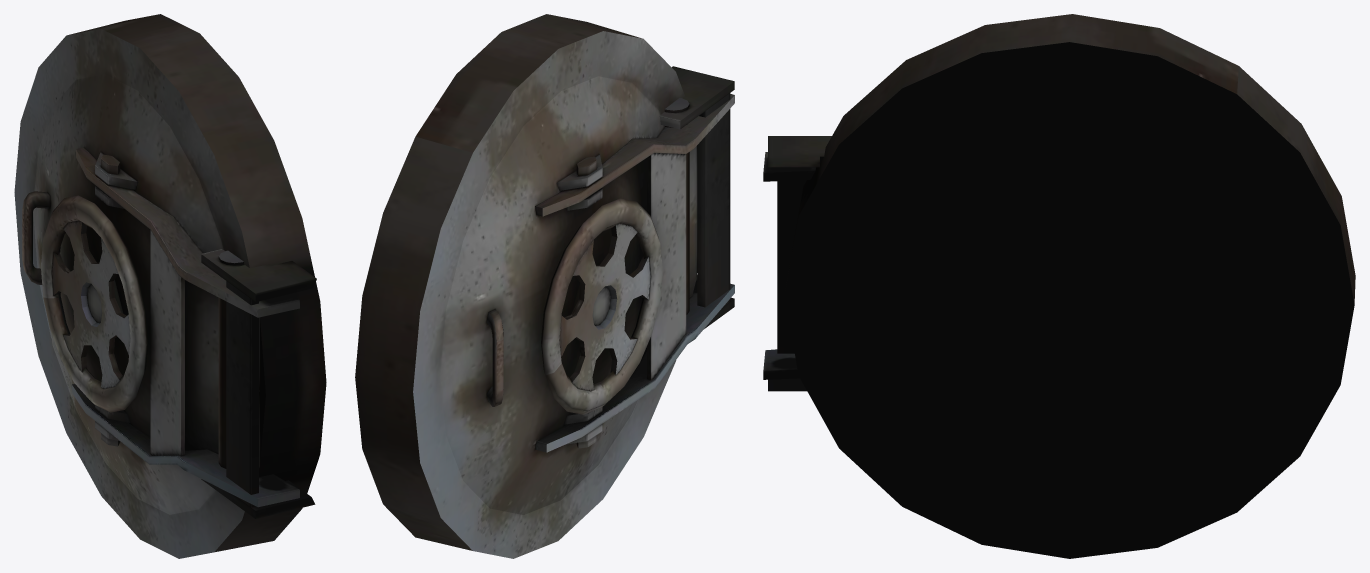
3 renders of one model, left to right at view 1: azimuth 30°, elevation 25°; view 2: azimuth 150°, elevation 25°; view 3: azimuth 270°, elevation 25°, orthographic. The views are drawn at different scales.
Visible parts, largest first — view 1: body0_model0_lod0_mesh0; view 2: body0_model0_lod0_mesh0; view 3: body0_model0_lod0_mesh0.
Boxes of the visible parts, x1,y1,x2,y2 form: body0_model0_lod0_mesh0: [14, 14, 326, 558]; body0_model0_lod0_mesh0: [355, 14, 734, 558]; body0_model0_lod0_mesh0: [763, 14, 1355, 558].
Bounding box in the file's own units: 26.59 × 103 × 107.
1 material, 1 textured.
